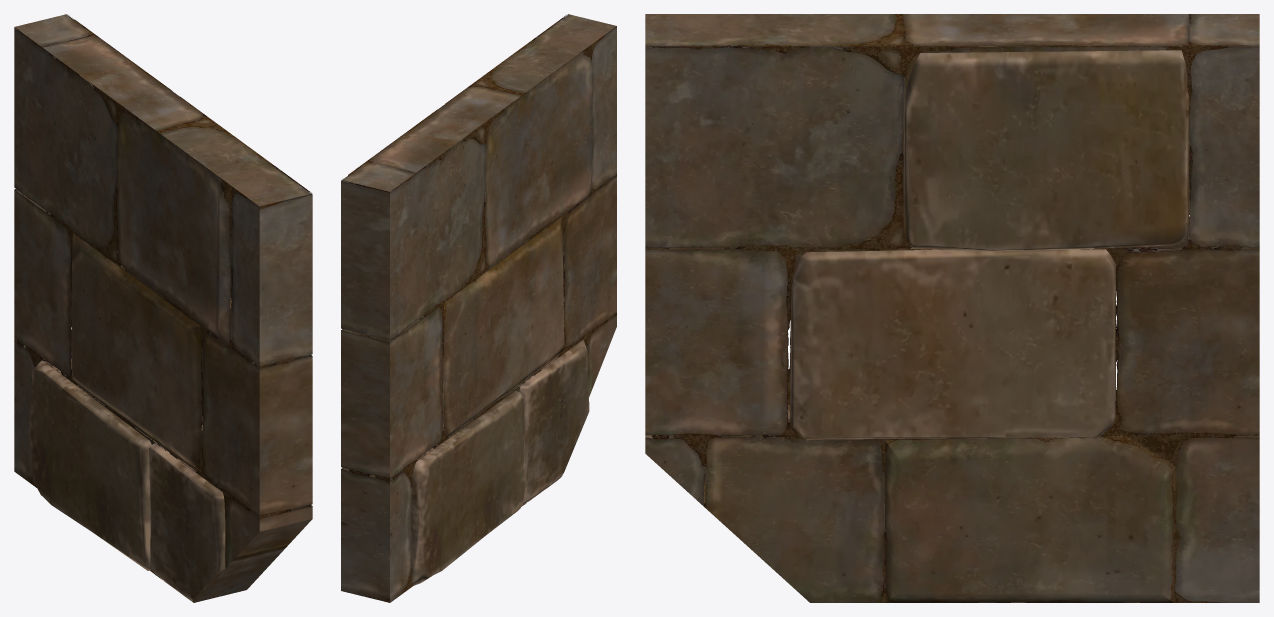
The picture shows the model from 3 angles, left to right: view 1: azimuth 30°, elevation 25°; view 2: azimuth 150°, elevation 25°; view 3: azimuth 270°, elevation 25°; orthographic projection. The views are drawn at different scales.
Visible parts, largest first — view 1: SM_Vault_4m_Wall_Hole_02_LOD0; view 2: SM_Vault_4m_Wall_Hole_02_LOD0; view 3: SM_Vault_4m_Wall_Hole_02_LOD0.
Part boxes in pixels (left/top/right/bottom): SM_Vault_4m_Wall_Hole_02_LOD0: left=14, top=14, right=312, bottom=602; SM_Vault_4m_Wall_Hole_02_LOD0: left=341, top=14, right=616, bottom=602; SM_Vault_4m_Wall_Hole_02_LOD0: left=645, top=14, right=1259, bottom=602.
Size of the model in its own units: 0.712 by 4 by 4.
2 materials, 2 textured.
